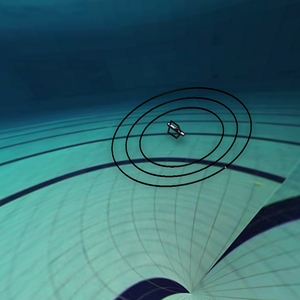circle: (103, 82, 259, 196)
submarine: (160, 117, 192, 147)
